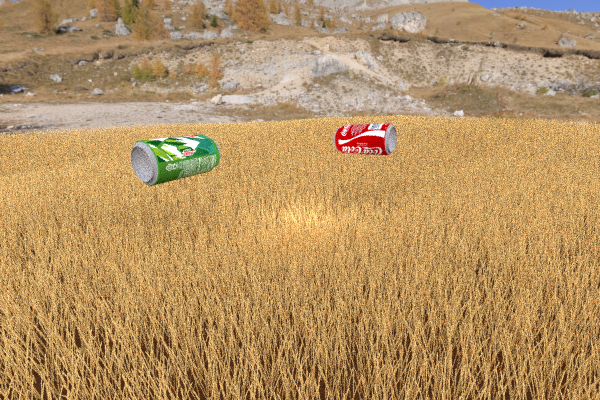bottle: (108, 125, 192, 174)
can: (130, 134, 220, 185), (333, 123, 396, 155)
